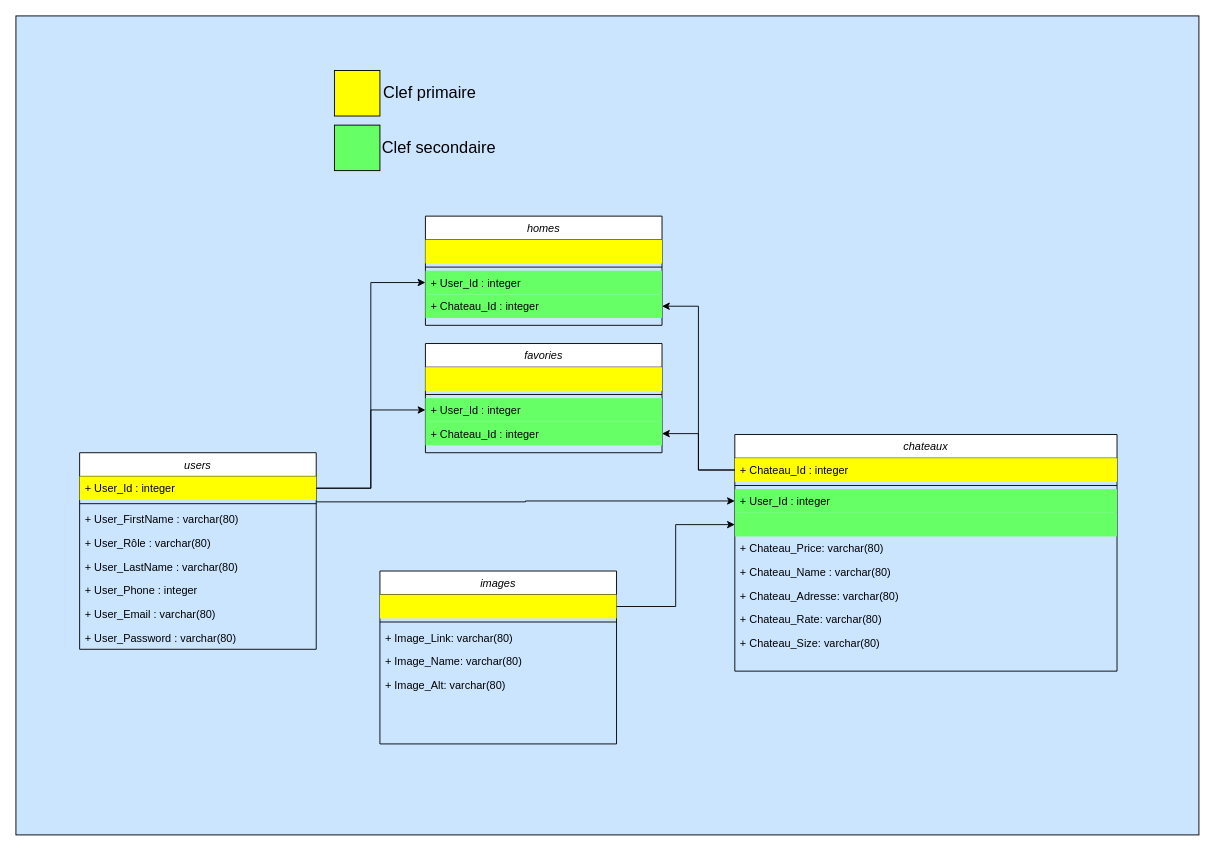
This 1215x851 diagram has some shape labels left out. The centre of each missing label's shape, as x and y in pixels:
"+ Favorie_Id : integer" belongs at (x=543, y=378).
"+ Home_Id : integer" belongs at (x=543, y=251).
"+ Image_Id : integer" belongs at (x=497, y=606).
"+ Image_Id: integer" belongs at (x=925, y=524).
